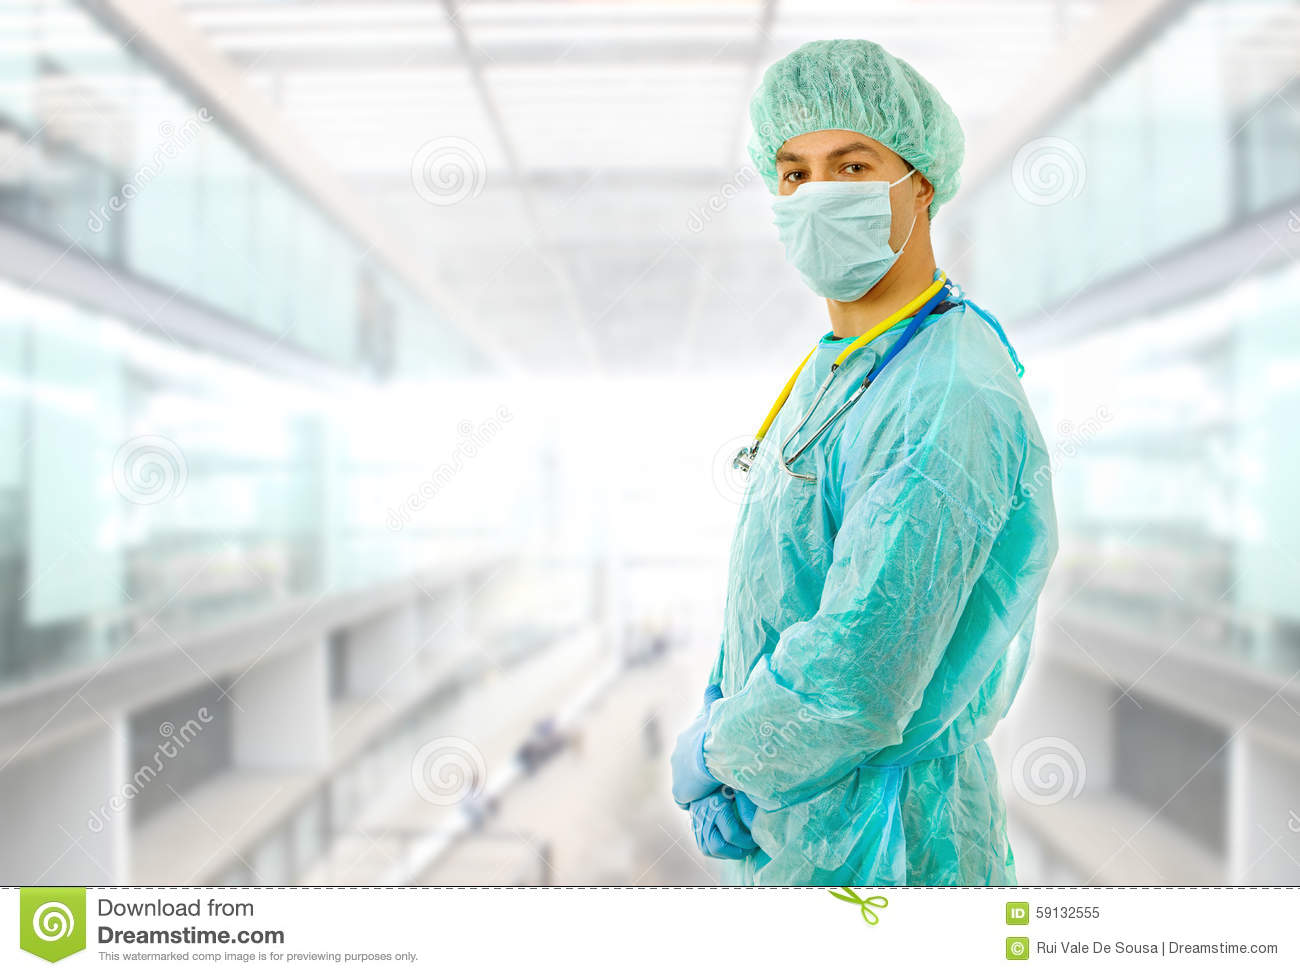mask: (771, 184, 911, 288)
